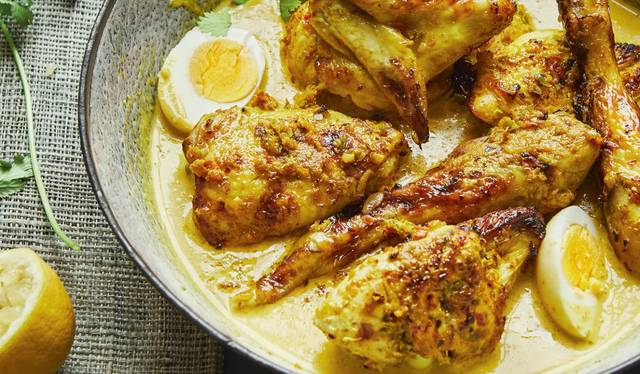chicken_curry: (209, 11, 626, 355)
